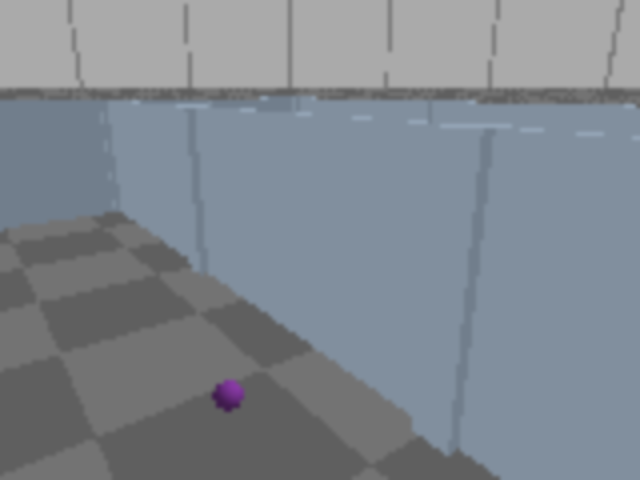puck: (210, 374, 245, 417)
